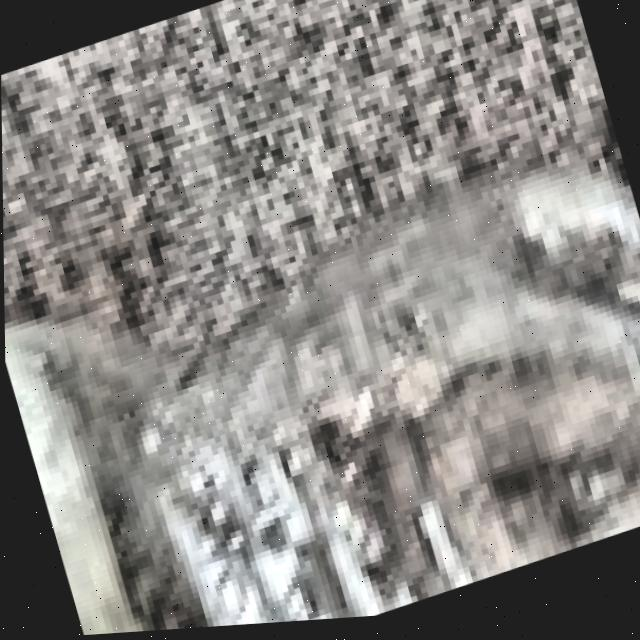plastic: (1, 87, 640, 640)
